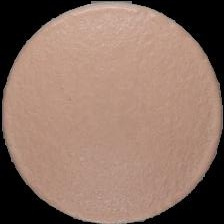0006-0221: (0, 0, 224, 224)
